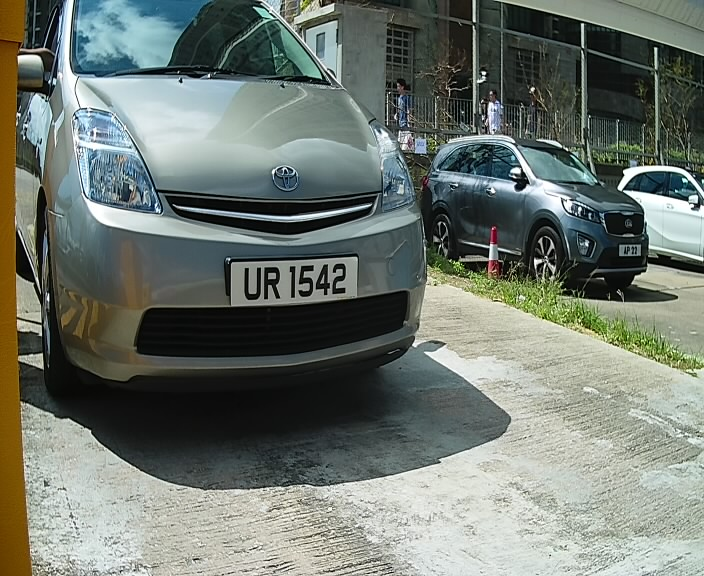License Plate: (218, 252, 374, 319)
